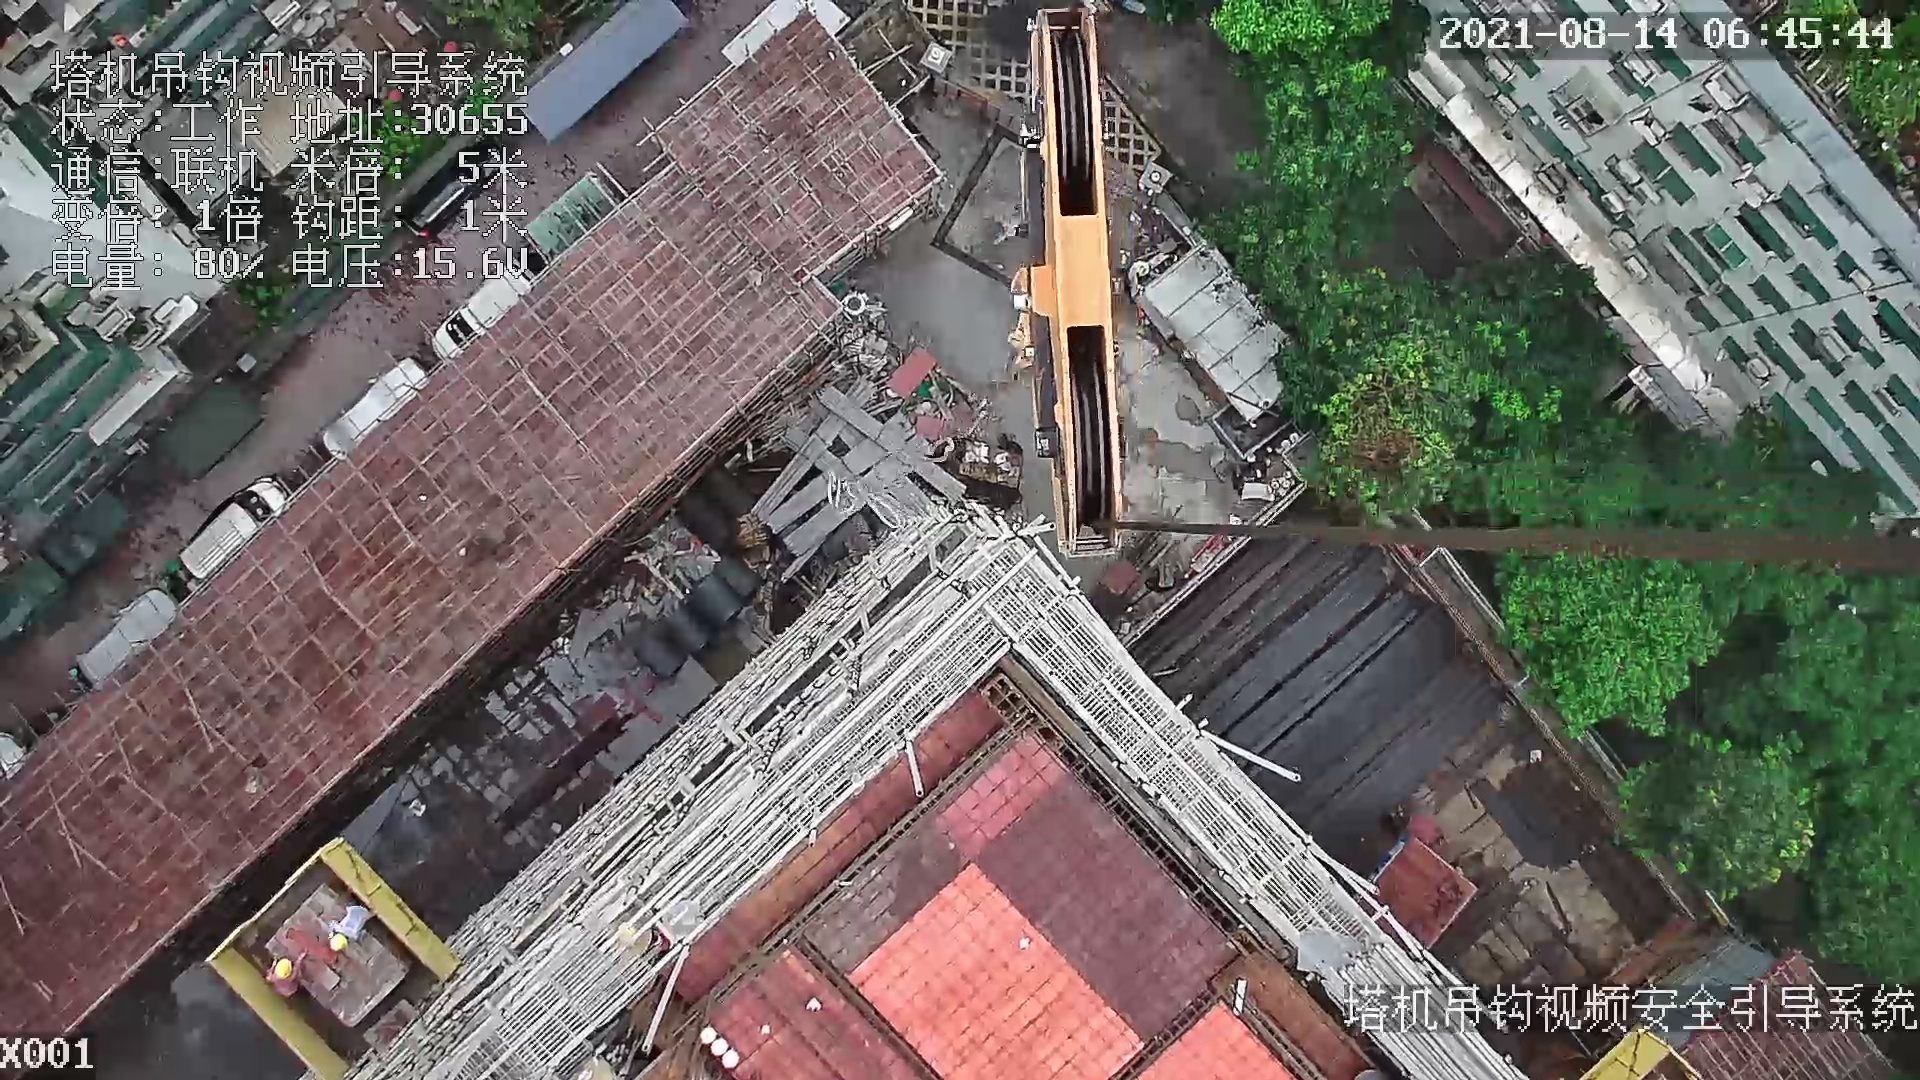helmet: (273, 957, 297, 982), (330, 932, 351, 952)
hook: (968, 1, 1135, 564)
person: (323, 904, 373, 958), (262, 950, 301, 995)
